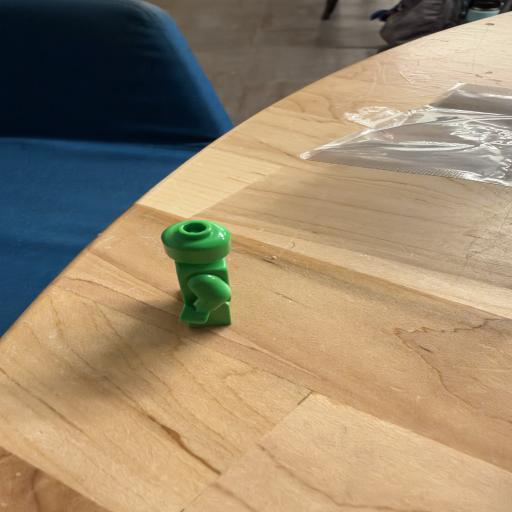green_minifig: (160, 220, 233, 328)
